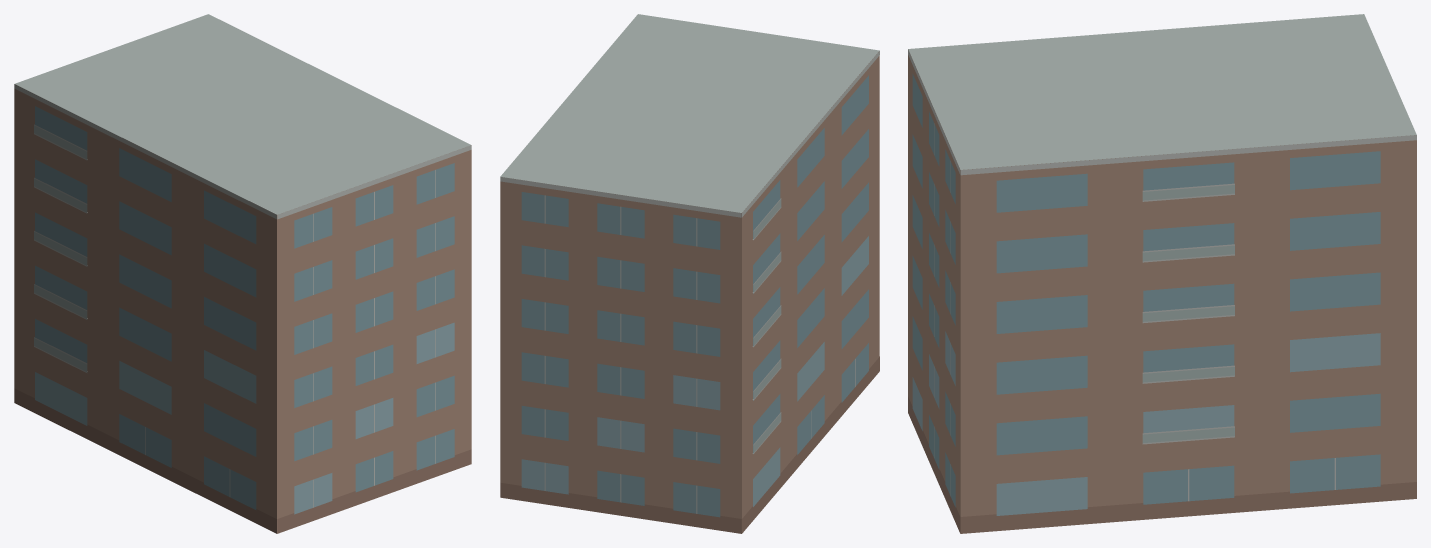
Rendered from survey-upis-33041846.glb.
3 renders of one model, left to right at view 1: azimuth 30°, elevation 25°; view 2: azimuth 150°, elevation 25°; view 3: azimuth 270°, elevation 25°, orthographic. The views are drawn at different scales.
Visible parts, largest first — view 1: survey-upis-33041846.tmp; view 2: survey-upis-33041846.tmp; view 3: survey-upis-33041846.tmp.
Part boxes in pixels (x1,y1,x2,y2): survey-upis-33041846.tmp: (14, 14, 471, 533); survey-upis-33041846.tmp: (500, 14, 879, 533); survey-upis-33041846.tmp: (908, 14, 1416, 533).
Bounding box in the file's own units: 15.41 × 16.75 × 21.23.
